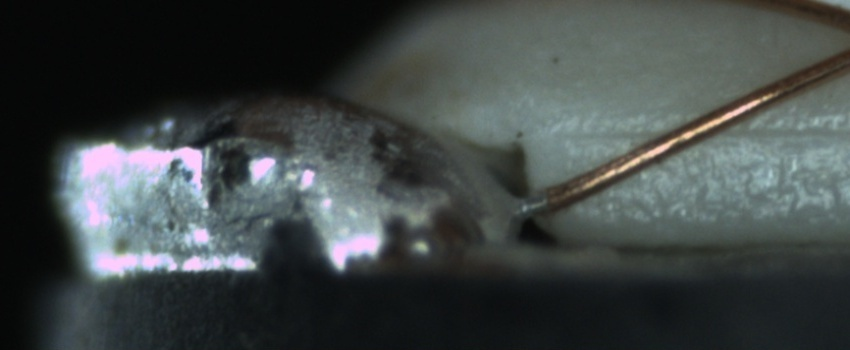DL: (562, 100, 843, 163)
TS: (517, 192, 544, 217)
